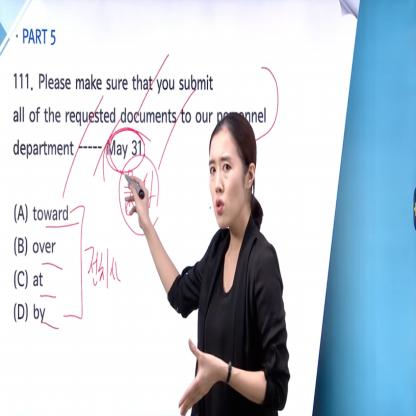streamer: (124, 111, 290, 416)
